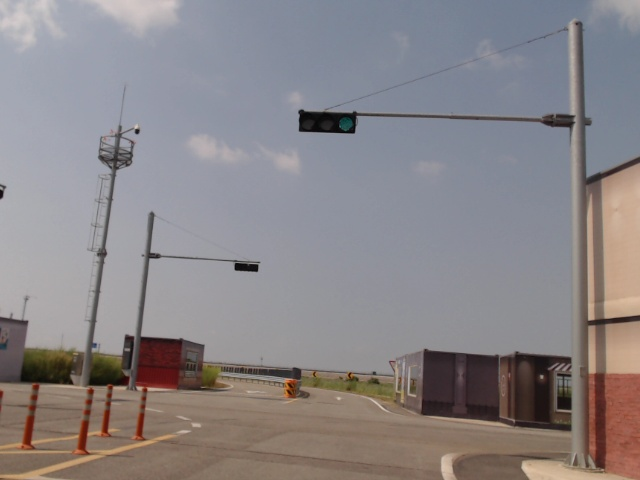green_3: (300, 112, 355, 134)
